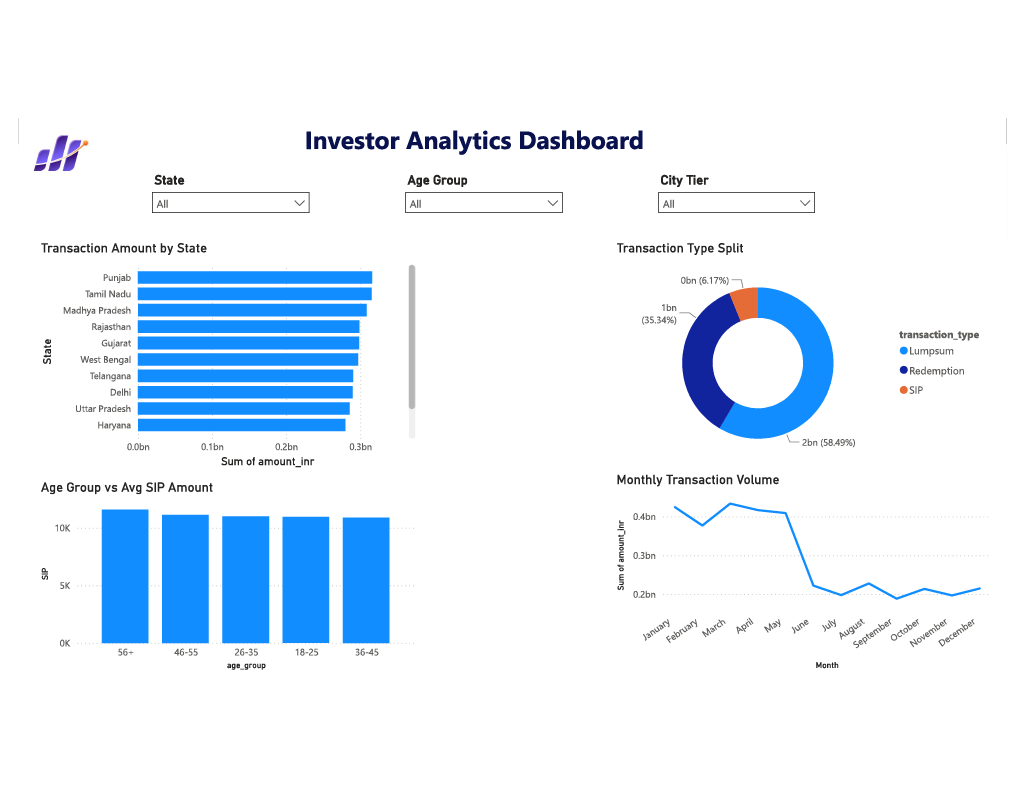

The dashboard page shown, as its layout file describes it:
{"tool":"powerbi","page":{"name":"Investor Analytics ","canvas":[1280,720],"ordinal":2},"visuals":[{"type":"textbox","box":[365.7,0,475.2,64.7],"z":0},{"type":"slicer","fields":{"Values":["08_investor_transactions_clean.state"]},"box":[163,64.7,223.9,93.3],"z":1000},{"type":"slicer","fields":{"Values":["08_investor_transactions_clean.age_group"]},"box":[491.4,64.7,223.9,93.3],"z":2000},{"type":"slicer","fields":{"Values":["08_investor_transactions_clean.city_tier"]},"box":[818.5,64.7,223.9,93.3],"z":3000},{"type":"clusteredBarChart","title":"Transaction Amount by State","fields":{"Category":["08_investor_transactions_clean.state"],"Y":["Sum(08_investor_transactions_clean.amount_inr)"]},"box":[23.6,158,495.1,299.8],"z":4000},{"type":"donutChart","title":"Transaction Type Split","fields":{"Category":["08_investor_transactions_clean.transaction_type"],"Y":["Sum(08_investor_transactions_clean.amount_inr)"]},"box":[770,158,495.1,299.8],"z":5000},{"type":"lineClusteredColumnComboChart","title":"Age Group vs Avg SIP Amount","fields":{"Category":["08_investor_transactions_clean.age_group"],"Y":["08_investor_transactions_clean.SIP"]},"box":[24,468,495,252],"z":6000},{"type":"lineChart","title":"Monthly Transaction Volume","fields":{"Category":["08_investor_transactions_clean.transaction_date.Variation.Date Hierarchy.Month"],"Y":["Sum(08_investor_transactions_clean.amount_inr)"]},"box":[770,457.8,495.1,262.5],"z":7000},{"type":"image","box":[0,0,109.5,93.3],"z":7001}]}

Visuals, with their boxes on the page's 1280x720 design canvas (x1, y1, x2, y2). These are canvas units, not pixel positions in the 1024x791 screenshot, which may show the page scaled, cropped or inside an application window:
textbox: Rect(366, 0, 841, 65)
slicer - 08_investor_transactions_clean.state: Rect(163, 65, 387, 158)
slicer - 08_investor_transactions_clean.age_group: Rect(491, 65, 715, 158)
slicer - 08_investor_transactions_clean.city_tier: Rect(818, 65, 1042, 158)
"Transaction Amount by State" clusteredBarChart: Rect(24, 158, 519, 458)
"Transaction Type Split" donutChart: Rect(770, 158, 1265, 458)
"Age Group vs Avg SIP Amount" lineClusteredColumnComboChart: Rect(24, 468, 519, 720)
"Monthly Transaction Volume" lineChart: Rect(770, 458, 1265, 720)
image: Rect(0, 0, 110, 93)
